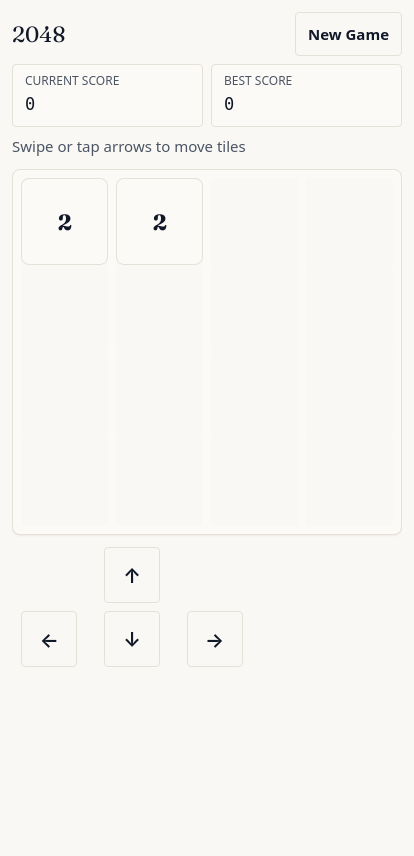
Test: Game2048 — touch controls (mobile) › the on-screen directional buttons move tiles
Click the button named "Move right": point(215, 639) x1=187 y1=611 x2=243 y2=667
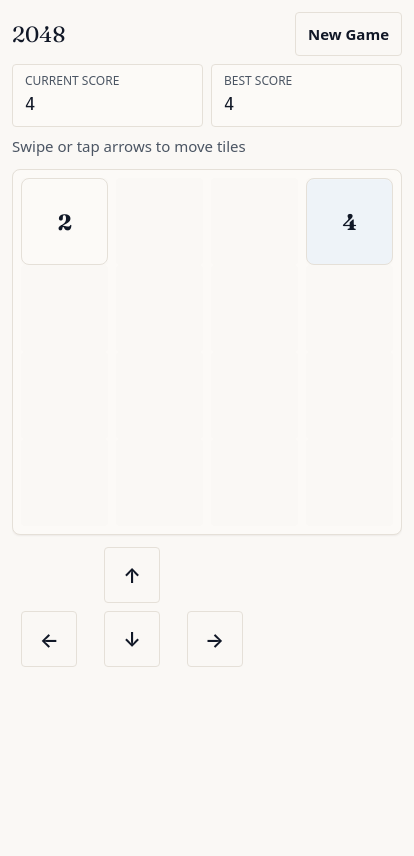
Expected: the number of cells named "Tile 2" is 1, x1=21 y1=178 x2=108 y2=265
Expected: the cell named "Tile 4" is shown, x1=306 y1=178 x2=393 y2=265
